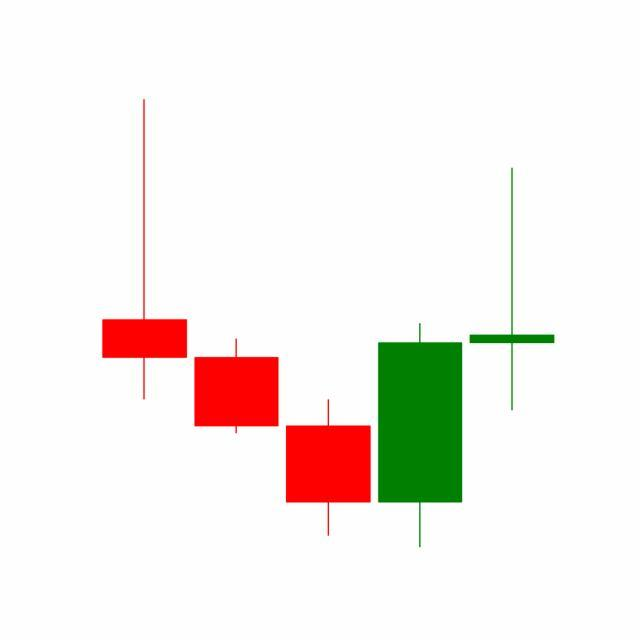Spinning Top: (466, 165, 559, 414)
